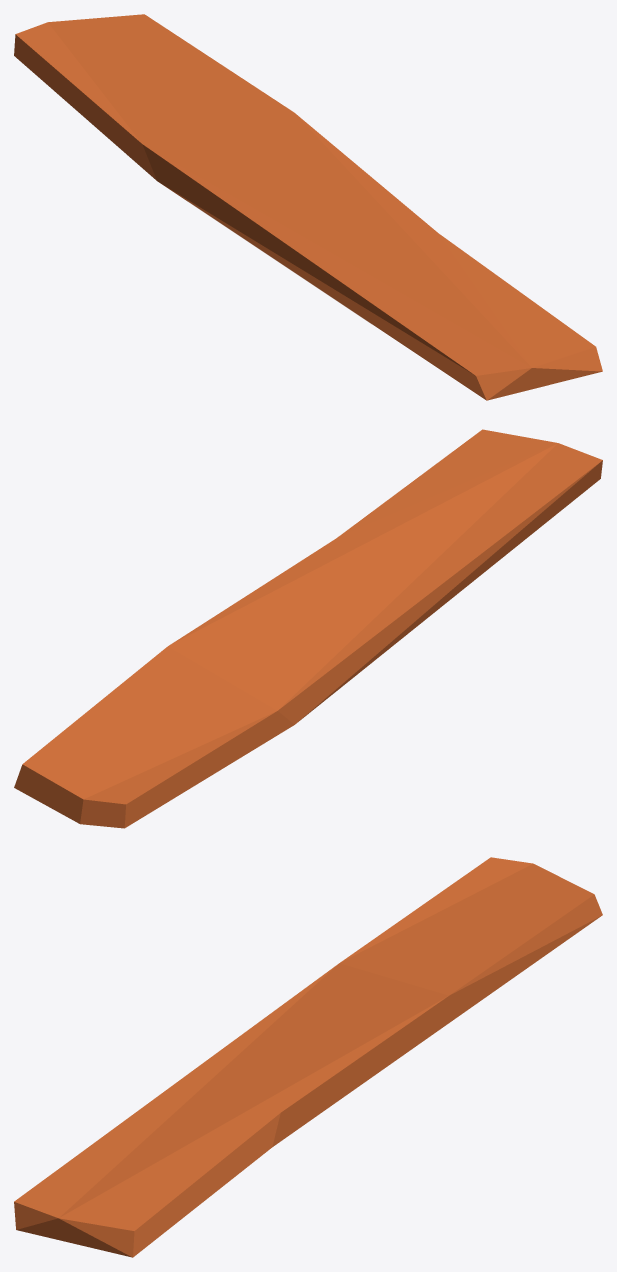
Rendered from Small plank of wood 2.fbx.
3 renders of one model, top to bottom at view 1: azimuth 30°, elevation 25°; view 2: azimuth 150°, elevation 25°; view 3: azimuth 330°, elevation 25°, orthographic.
Parts seen in each view (by area): view 1: Small plank of wood 2; view 2: Small plank of wood 2; view 3: Small plank of wood 2.
Boxes of the visible parts, box(x1,y1,x2,y2) form: Small plank of wood 2: box(14, 14, 602, 400); Small plank of wood 2: box(14, 429, 602, 828); Small plank of wood 2: box(14, 857, 602, 1257).
Size of the model in its own units: 33.7 by 9.95 by 210.
